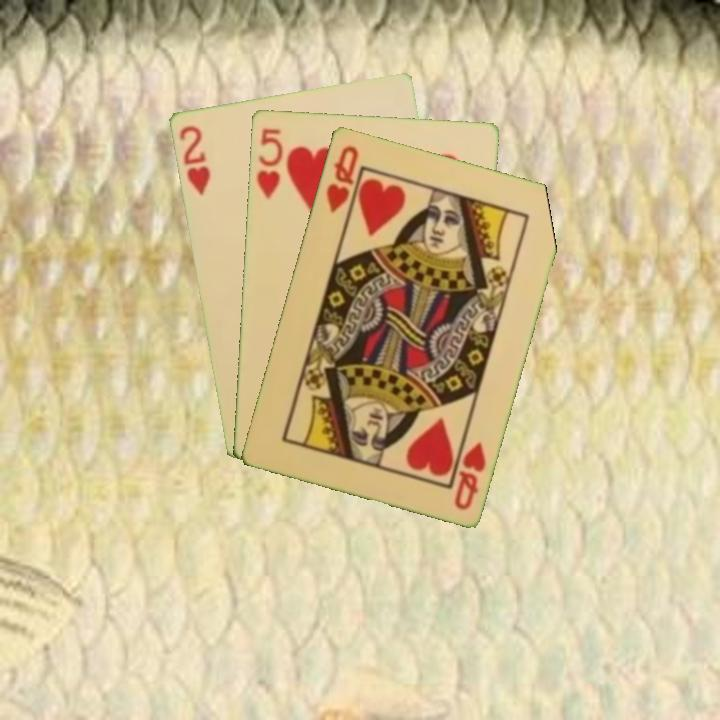2h: (175, 121, 213, 198)
5h: (253, 124, 286, 201)
Qh: (450, 437, 489, 513), (322, 141, 361, 216)
